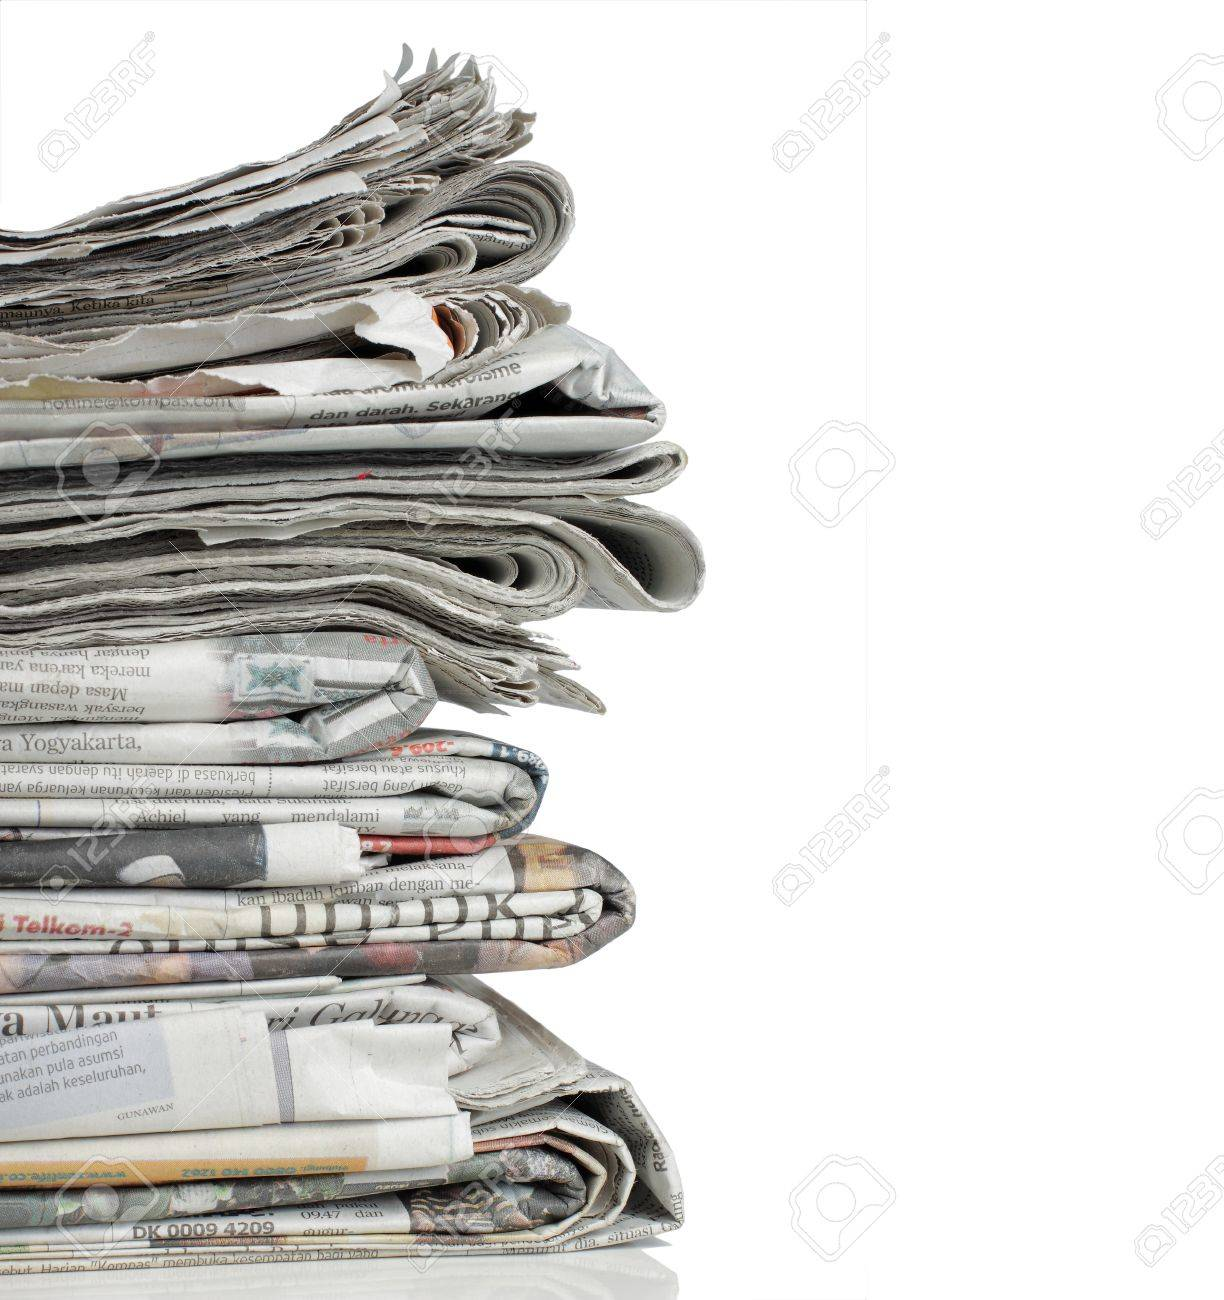Rec_Paper: (1, 81, 788, 1293)
